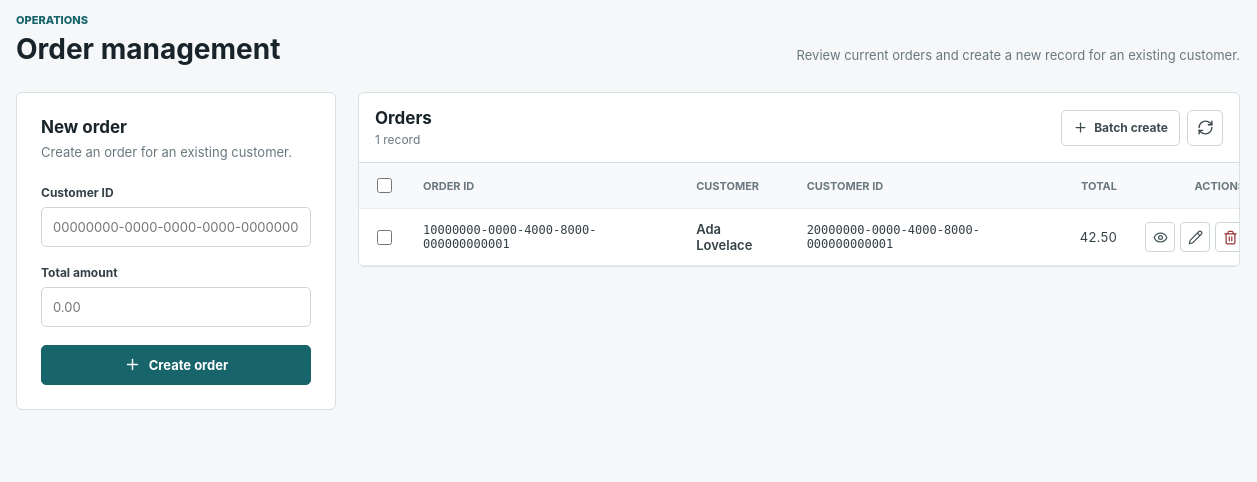
Test: orders page › loads orders and adds a created order to the visible table
Step 1. Type "20000000-0000-4000-8000-000000000001" into the field named "customerId" → (176, 226), box x1=41 y1=206 x2=311 y2=246
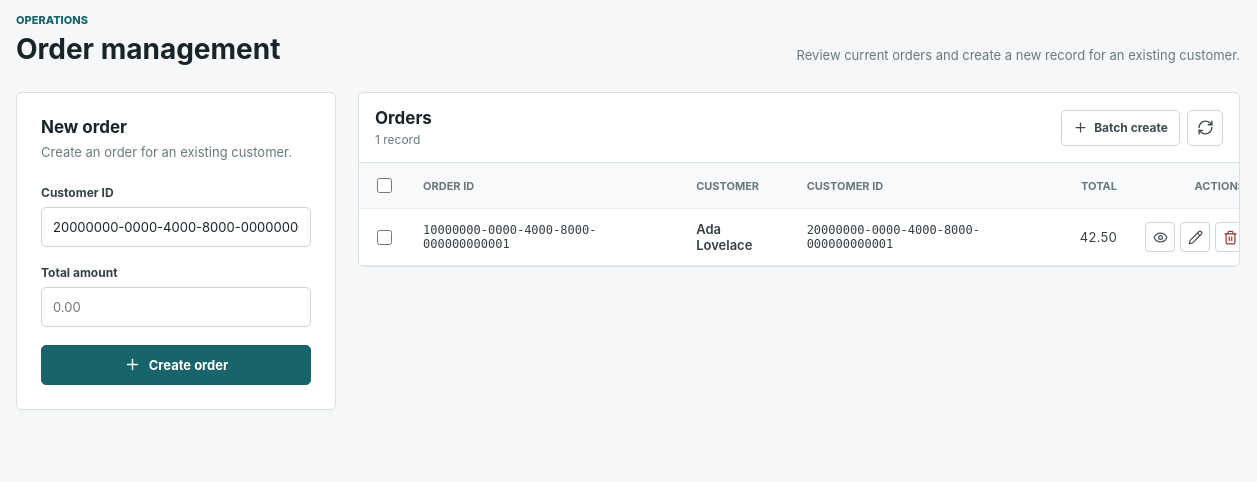
Step 2. Type "88.25" into the number field named "totalAmount" → (176, 306), box x1=41 y1=286 x2=311 y2=326
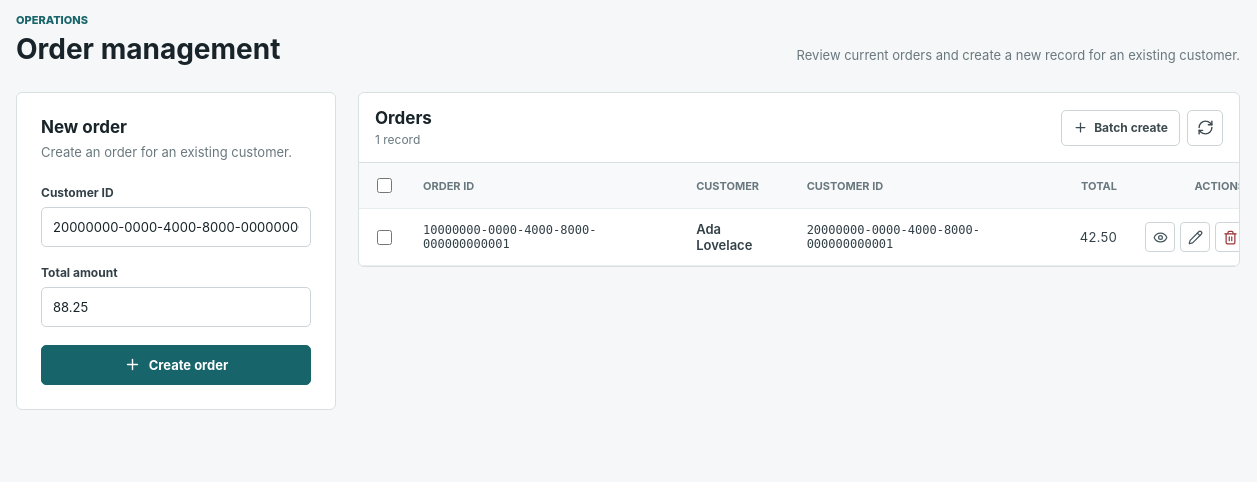
Step 3. Submit the form, box x1=41 y1=184 x2=311 y2=384
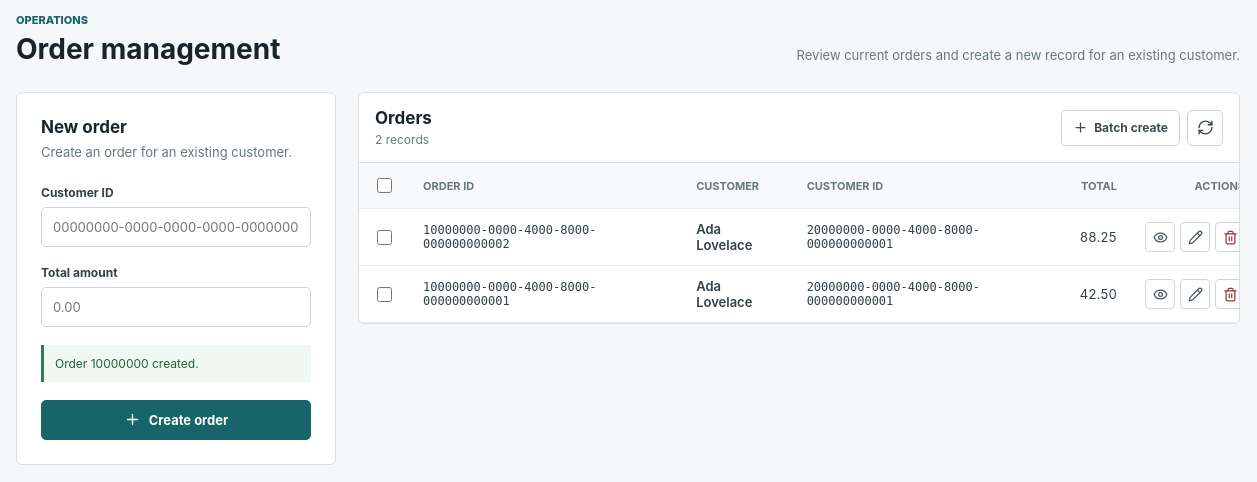
Expected: the text "88.25" is shown, x1=1066 y1=208 x2=1131 y2=266
Expected: the text "2 records" is shown, x1=375 y1=132 x2=432 y2=147
Expected: the text "Order 10000000 created." is shown, x1=41 y1=344 x2=311 y2=382
